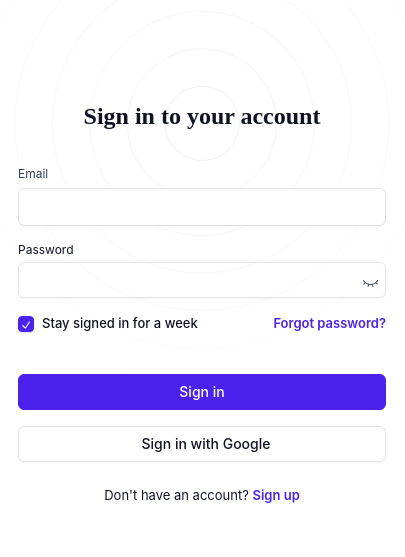
Login page › should show required error when email is left blank
The image size is (405, 557).
Step 1. Type "myPassword" into the password field named "password" → (202, 280), box [18, 262, 386, 298]
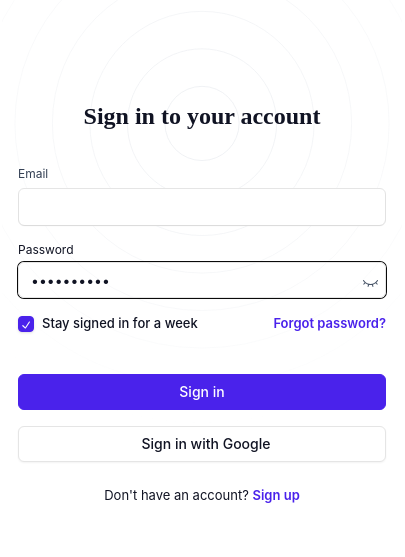
Step 2. Click the button with test id "signin-btn" → (202, 392), box [18, 374, 386, 410]
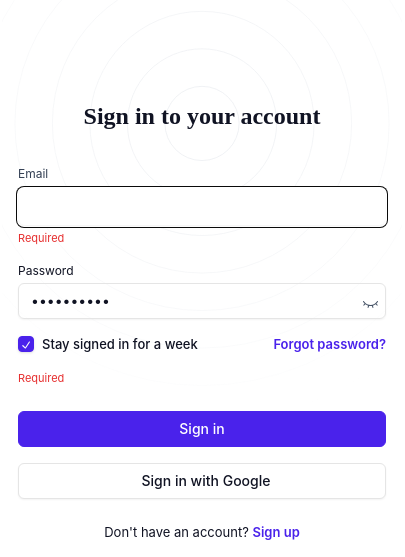
expect the text "Required" below "Email" is shown: met, box [18, 231, 64, 245]
